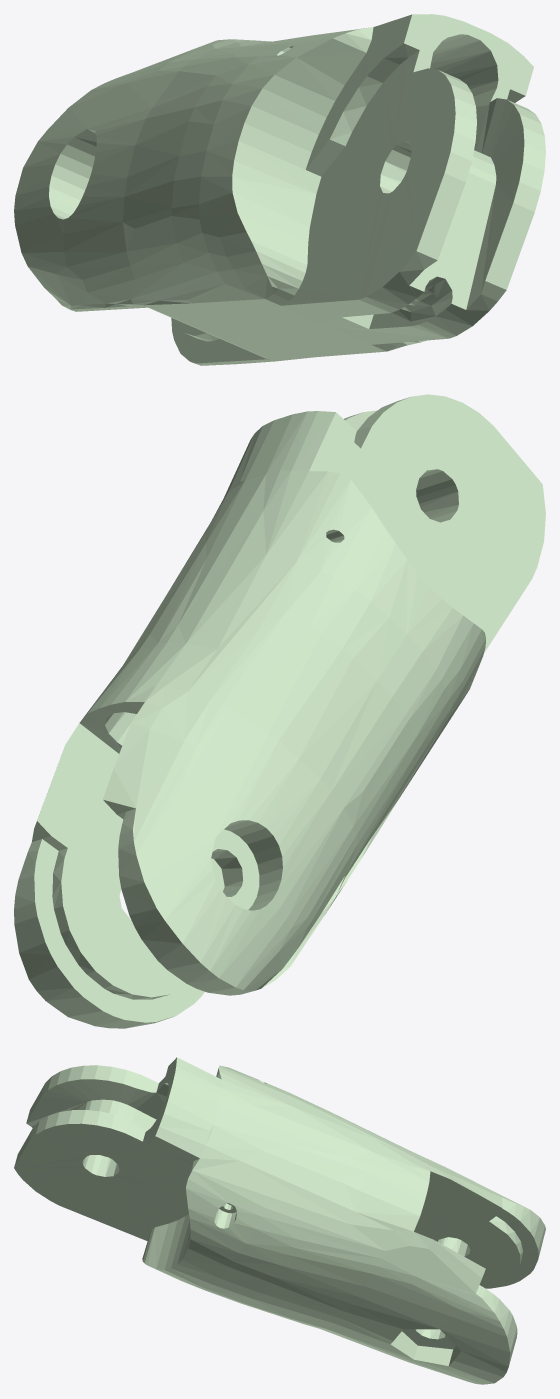
File: i02_leftHand_majeurePhal_visual.obj.light.glb
3 views of the same model, one above another, from view 1: azimuth 30°, elevation 25°; view 2: azimuth 150°, elevation 25°; view 3: azimuth 270°, elevation 25° (orthographic). The views are drawn at different scales.
Bounding box in the file's own units: 0.2039 × 0.3365 × 0.5012.
